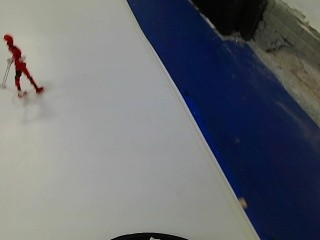pedestrian: (1, 32, 49, 97)
